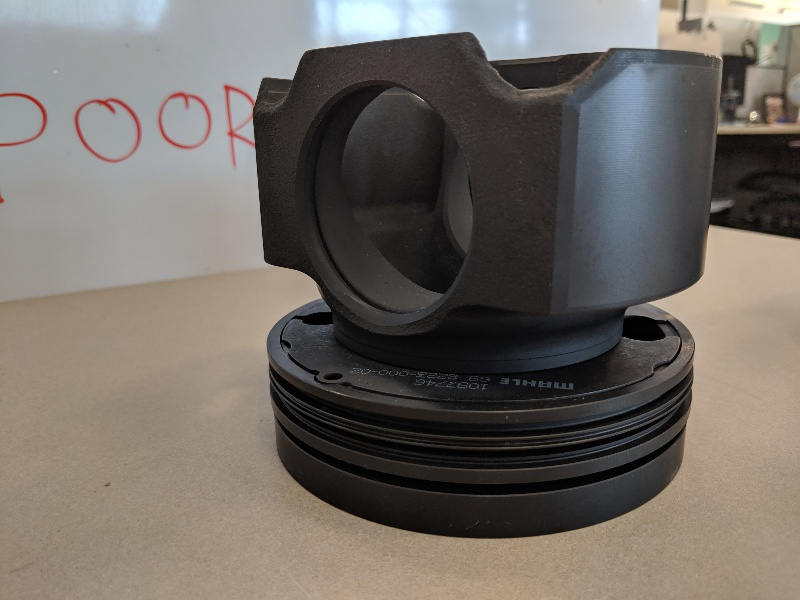piston: (238, 28, 736, 547)
